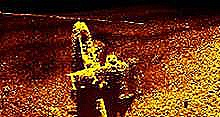aircraft: (67, 20, 130, 116)
